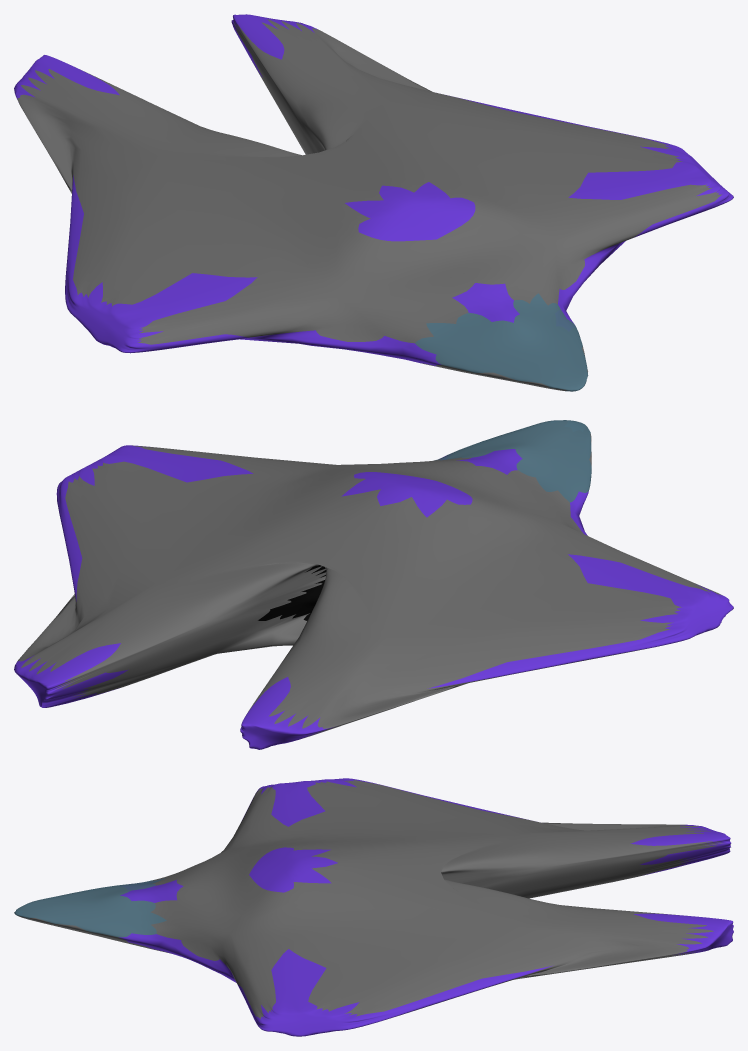
File: FighterBlue.fbx
The picture shows the model from 3 angles, top to bottom: view 1: azimuth 30°, elevation 25°; view 2: azimuth 150°, elevation 25°; view 3: azimuth 270°, elevation 25°; orthographic projection. The views are drawn at different scales.
Parts seen in each view (by area): view 1: FighterBlue:pCube1; view 2: FighterBlue:pCube1; view 3: FighterBlue:pCube1.
Part boxes in pixels (x1,y1,x2,y2): FighterBlue:pCube1: (14, 14, 733, 391); FighterBlue:pCube1: (14, 420, 733, 749); FighterBlue:pCube1: (14, 778, 733, 1036).
Size of the model in its own units: 4.78 by 0.8125 by 5.8.
